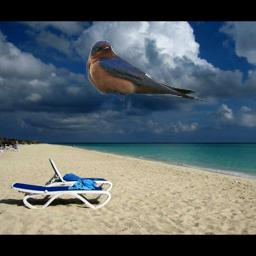Swallow: (86, 40, 208, 103)
